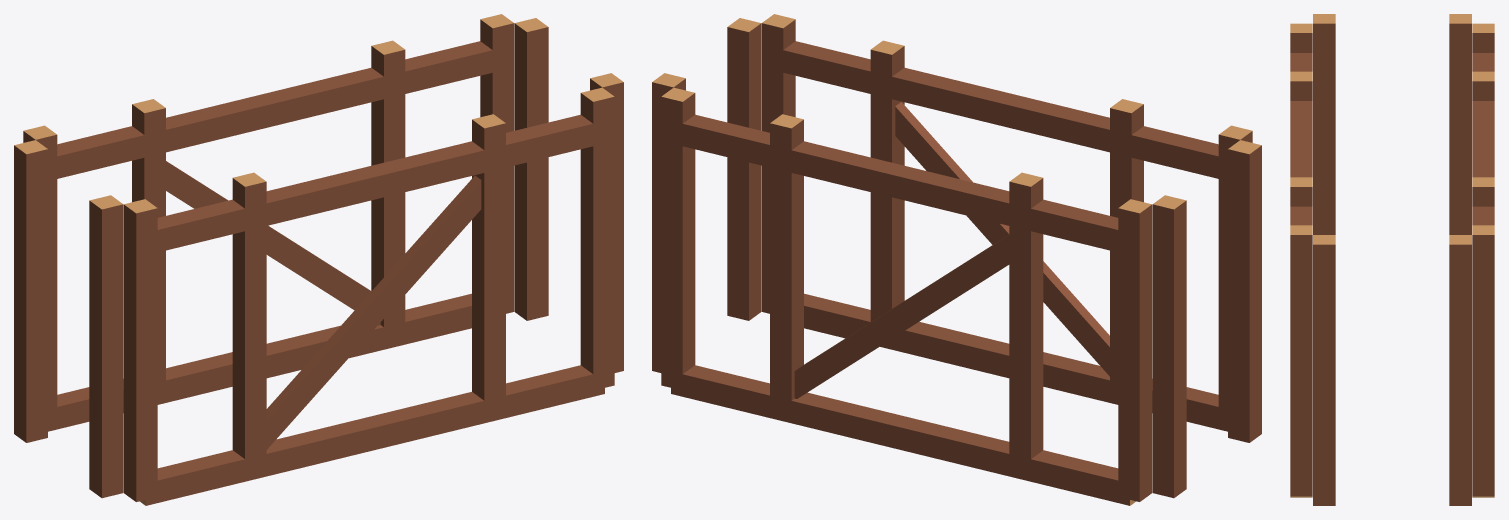
The model's file is Scaffol Wall.fbx.
The picture shows the model from 3 angles, left to right: view 1: azimuth 30°, elevation 25°; view 2: azimuth 150°, elevation 25°; view 3: azimuth 270°, elevation 25°; orthographic projection. The views are drawn at different scales.
Visible parts, largest first — view 1: Scaffold_Wall; view 2: Scaffold_Wall; view 3: Scaffold_Wall.
Boxes of the visible parts, x1,y1,x2,y2 form: Scaffold_Wall: (14,14,623,505); Scaffold_Wall: (652,14,1261,505); Scaffold_Wall: (1290,14,1494,505).
Size of the model in its own units: 2.4 by 1.29 by 0.899.
Materials: 1 (1 with a texture image).
